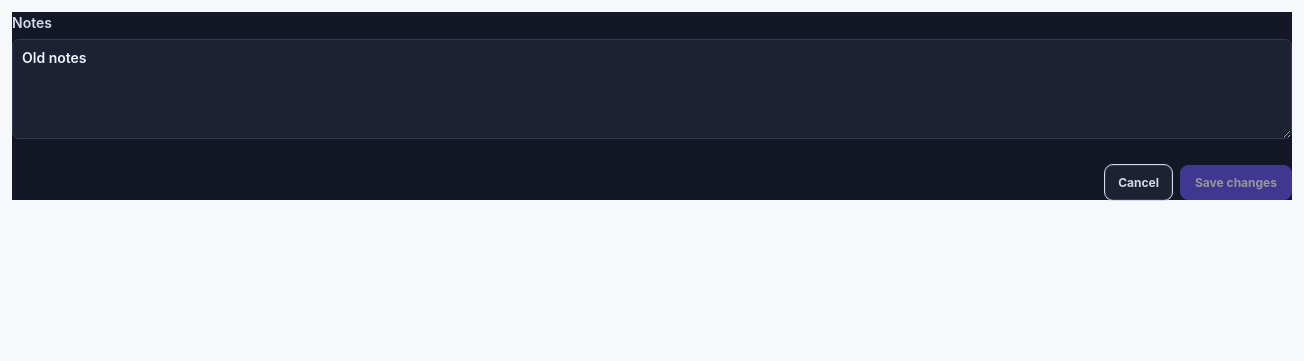
Scenario: field-level editor › shows the conflicting values and provides an explicit overwrite
Later steps or results of the test are not shown.
Replace the text in the text box labelled "Notes" with "New notes" at (652, 89), box [12,39,1292,139]
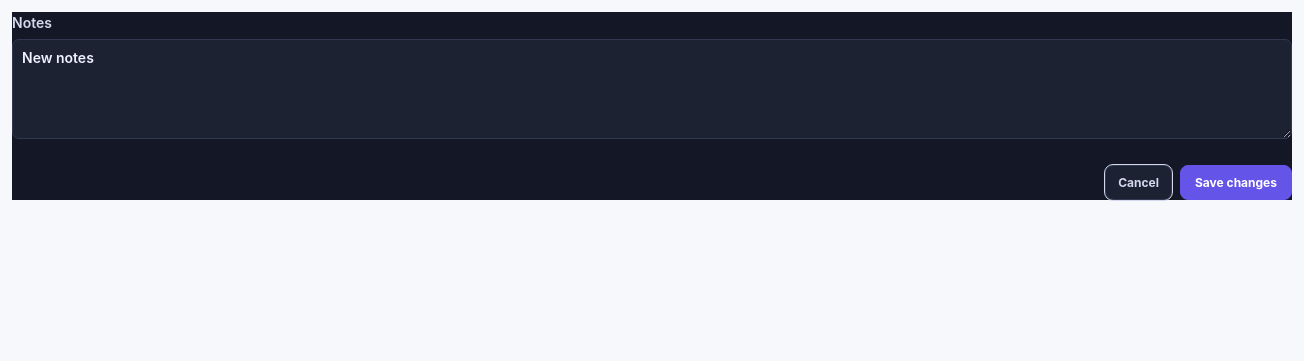
Click the button "Save changes" at (1236, 182), box [1180,165,1292,200]
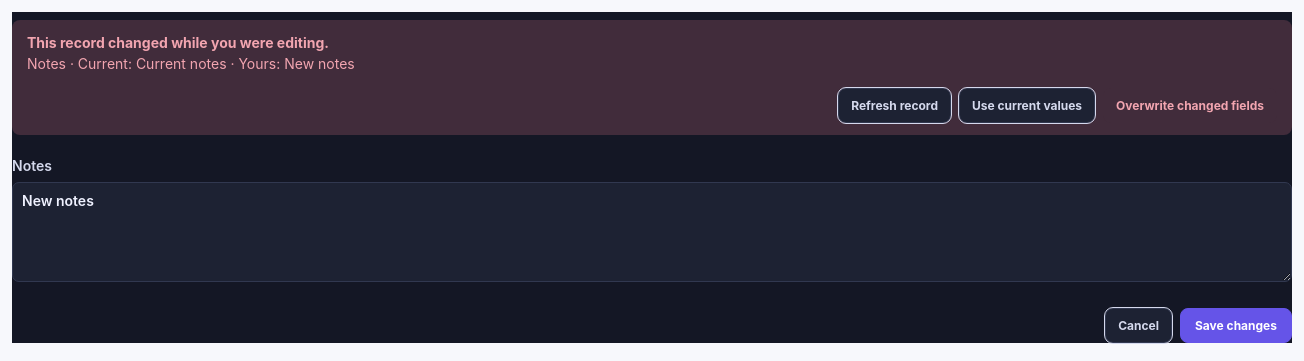
Result: the list item "Notes · Current: Current notes · Yours: New notes" is shown at [27,55,355,72]
